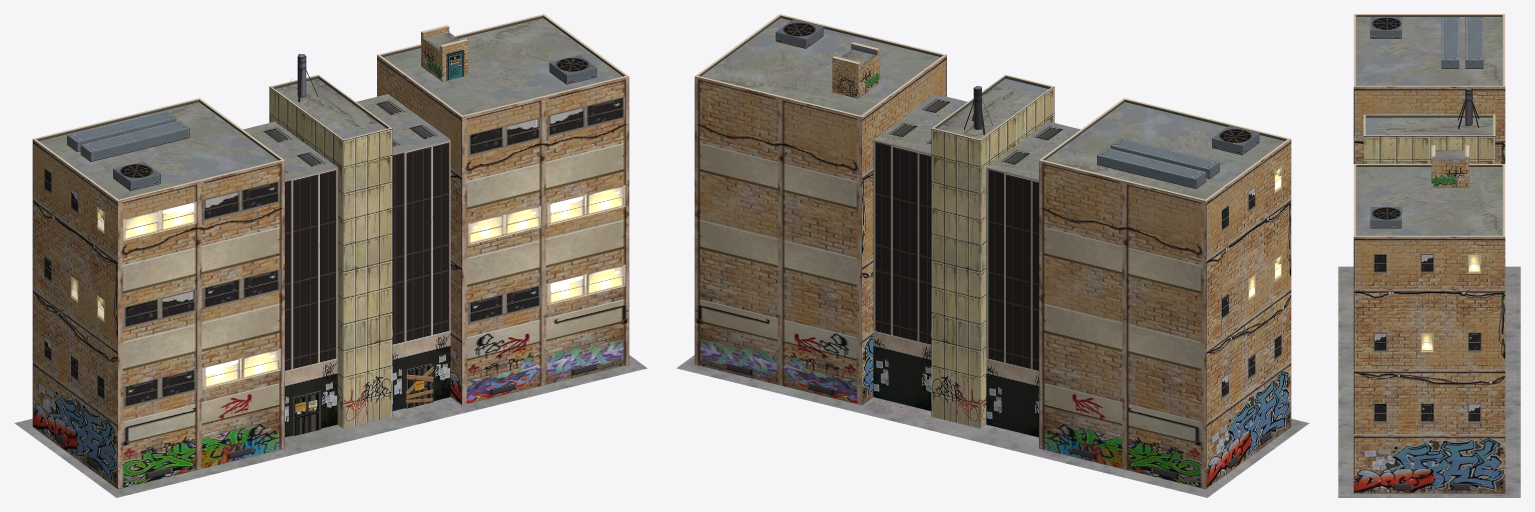
The model's file is hotel.glb.
3 renders of one model, left to right at view 1: azimuth 30°, elevation 25°; view 2: azimuth 150°, elevation 25°; view 3: azimuth 270°, elevation 25°, orthographic. The views are drawn at different scales.
Parts seen in each view (by area): view 1: pasted__pCube27, pasted__pCube20, pasted__pCube19, pasted__pCube28, pasted__pCube18, pasted__pCube26, LMProjects2_pasted__group65_pasted__pCube40, pasted__pCube1, LMProjects2_pasted__group65_pasted__pCube39_LMProjects1GLOW_, pasted__BD_ConcreteBlock1, pasted__BD_ConcreteBlock3, pasted__pCube54 (+8 smaller); view 2: pasted__pCube27, pasted__pCube20, pasted__pCube19, pasted__pCube18, pasted__pCube28, pasted__pCube26, pasted__pCube1, pasted__BD_ConcreteBlock1, pasted__BD_ConcreteBlock3, pasted__pCube53, pasted__BD_ConcreteBlock2, pasted__pCube54 (+5 smaller); view 3: pasted__pCube20, pasted__pCube27, pasted__pCube1, pasted__pCube19, pasted__BD_ConcreteBlock2, pasted__BD_ConcreteBlock3, pasted__BD_ConcreteBlock1, LMProjects2_pasted__group65_pasted__pCube40, pasted__pCube66, pasted__pCube53, pasted__pCube54, pasted__pCube52 (+3 smaller).
Boxes of the visible parts, box(x1,y1,x2,y2) form: pasted__pCube27: box(32, 98, 284, 422); pasted__pCube20: box(377, 14, 629, 338); pasted__pCube19: box(269, 74, 392, 428); pasted__pCube28: box(32, 360, 284, 489); pasted__pCube18: box(356, 94, 450, 410); pasted__pCube26: box(243, 121, 337, 437); LMProjects2_pasted__group65_pasted__pCube40: box(44, 96, 625, 408); pasted__pCube1: box(450, 298, 629, 405); LMProjects2_pasted__group65_pasted__pCube39_LMProjects1GLOW_: box(71, 185, 625, 389); pasted__BD_ConcreteBlock1: box(285, 397, 469, 454); pasted__BD_ConcreteBlock3: box(14, 418, 293, 497); pasted__pCube54: box(80, 121, 189, 161); pasted__pCube27: box(1039, 98, 1291, 422); pasted__pCube20: box(694, 14, 946, 338); pasted__pCube19: box(931, 74, 1054, 428); pasted__pCube18: box(873, 94, 967, 410); pasted__pCube28: box(1039, 360, 1291, 489); pasted__pCube26: box(986, 121, 1080, 437); pasted__pCube1: box(694, 298, 873, 405); pasted__BD_ConcreteBlock1: box(854, 397, 1038, 454); pasted__BD_ConcreteBlock3: box(1030, 418, 1309, 497); pasted__pCube53: box(1097, 148, 1206, 188); pasted__BD_ConcreteBlock2: box(676, 355, 861, 411); pasted__pCube54: box(1110, 138, 1219, 178); pasted__pCube20: box(1353, 164, 1505, 433); pasted__pCube27: box(1353, 14, 1505, 163); pasted__pCube1: box(1353, 434, 1505, 493); pasted__pCube19: box(1363, 114, 1495, 163); pasted__BD_ConcreteBlock2: box(1338, 421, 1520, 497); pasted__BD_ConcreteBlock3: box(1338, 266, 1520, 343); pasted__BD_ConcreteBlock1: box(1338, 344, 1520, 420); LMProjects2_pasted__group65_pasted__pCube40: box(1373, 254, 1481, 423); pasted__pCube66: box(1435, 150, 1464, 187); pasted__pCube53: box(1465, 17, 1483, 68); pasted__pCube54: box(1441, 17, 1459, 68); pasted__pCube52: box(1370, 17, 1401, 38).
Bounding box in the file's own units: 5400 × 3166 × 1800.
3 materials, 3 textured.
